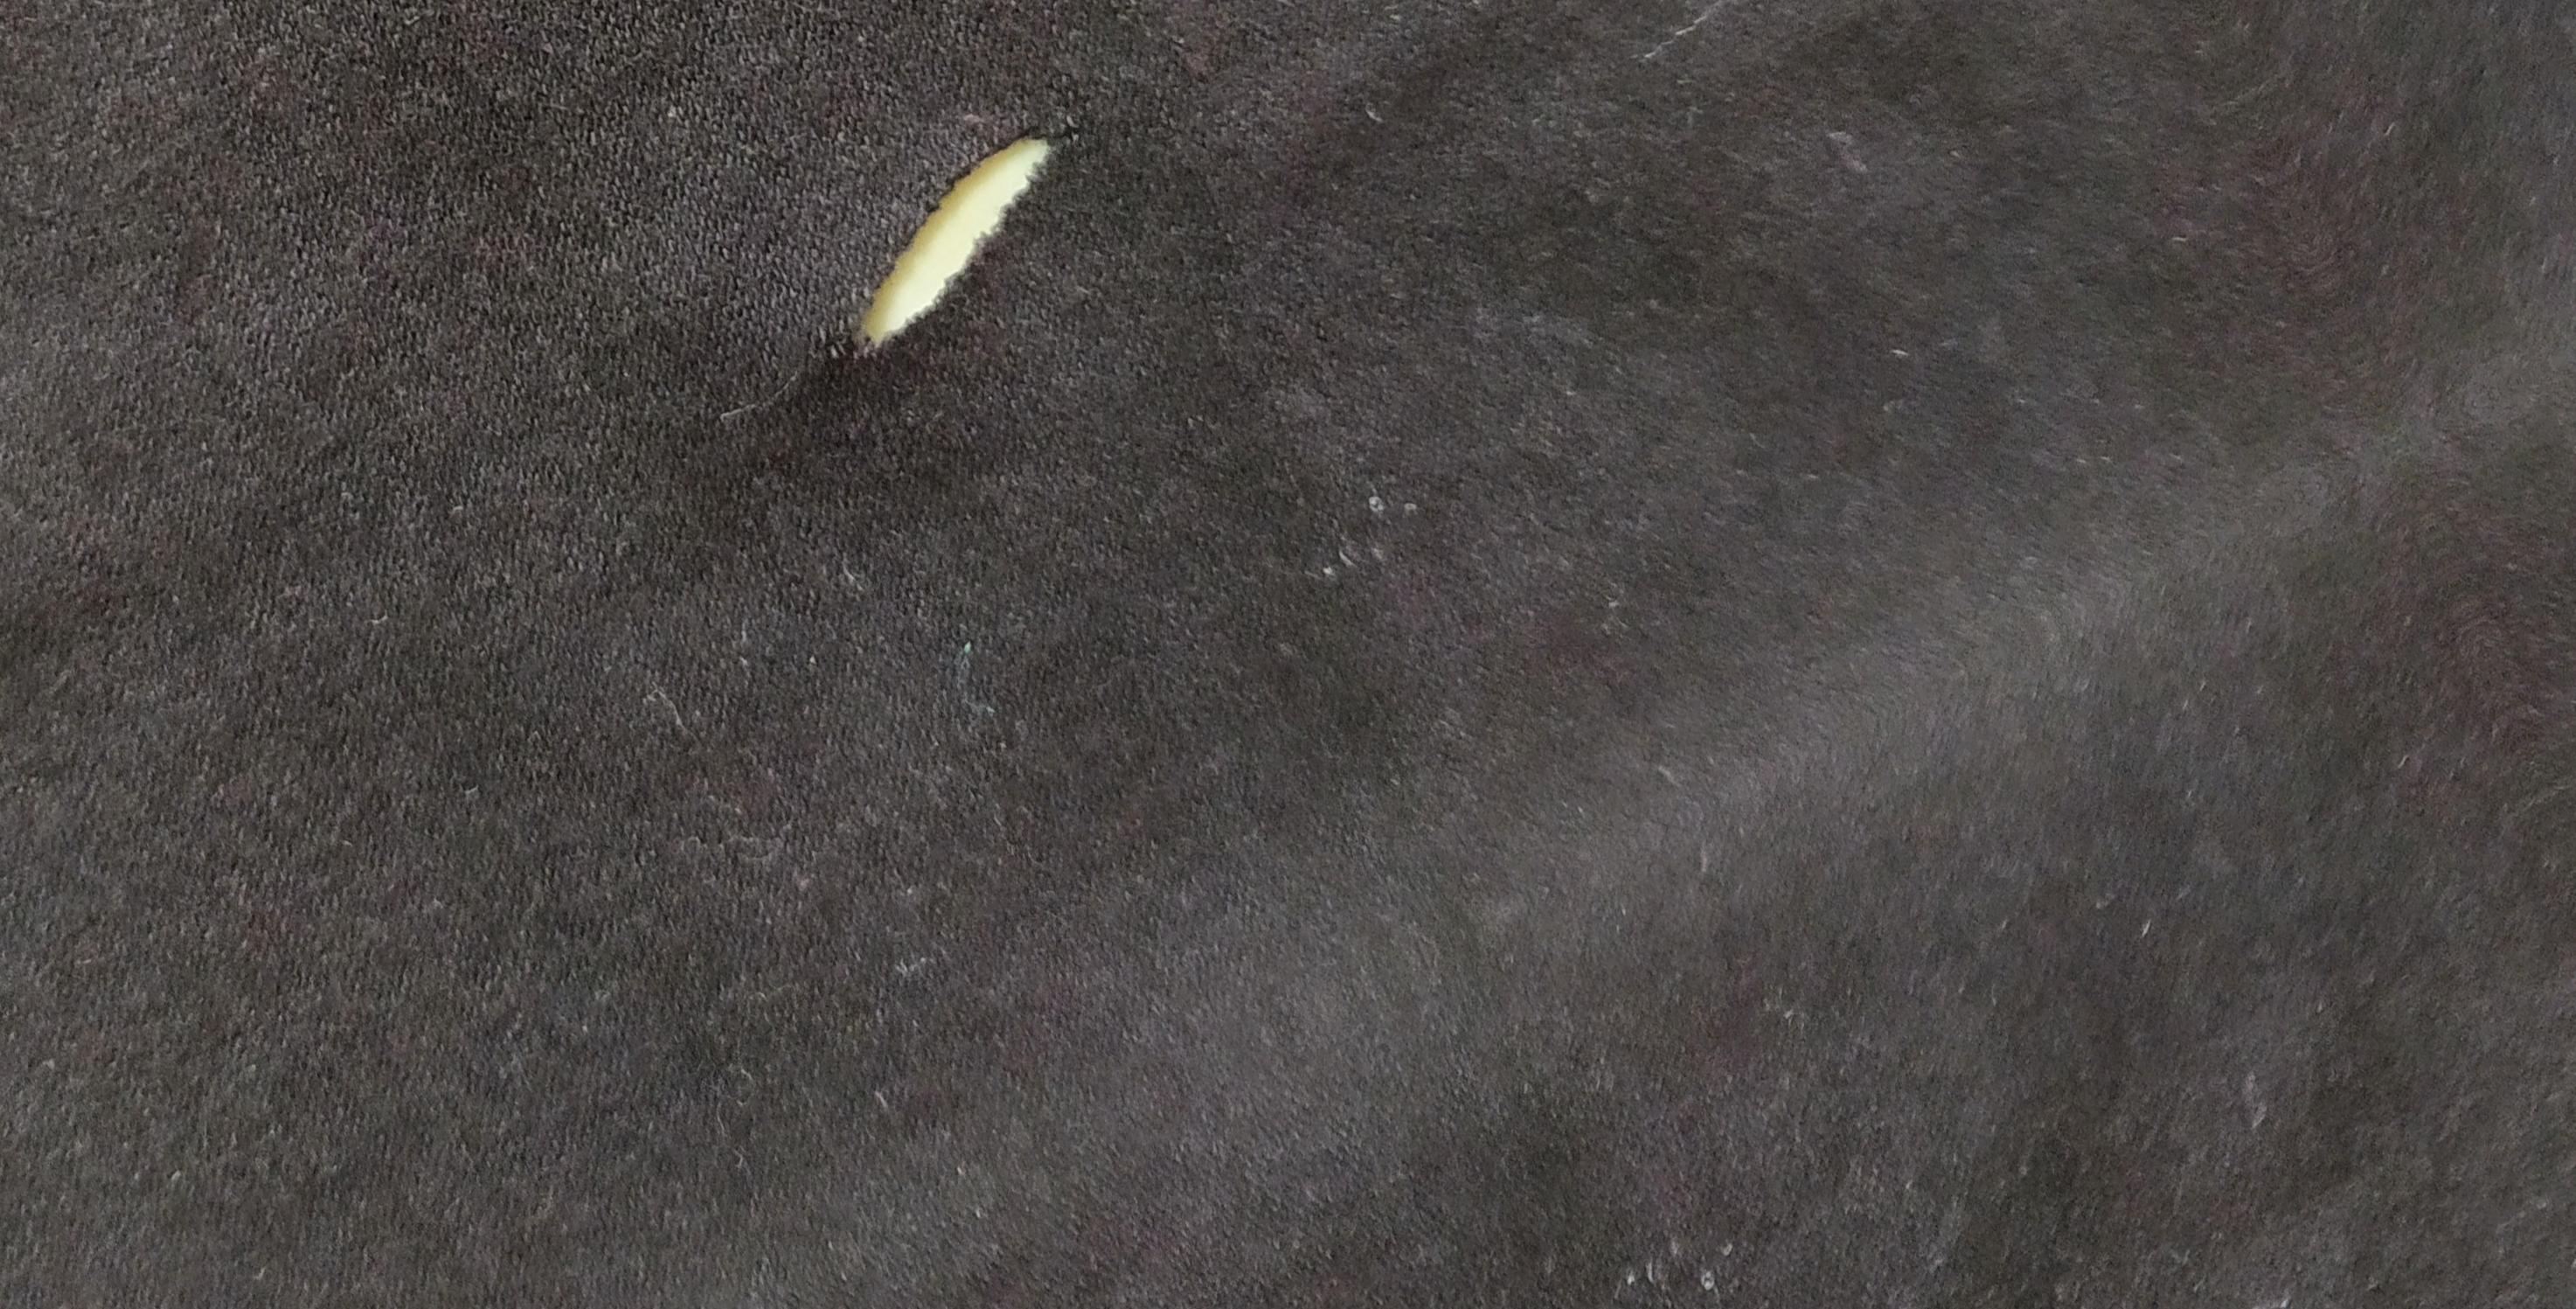hole: (846, 112, 1061, 376)
